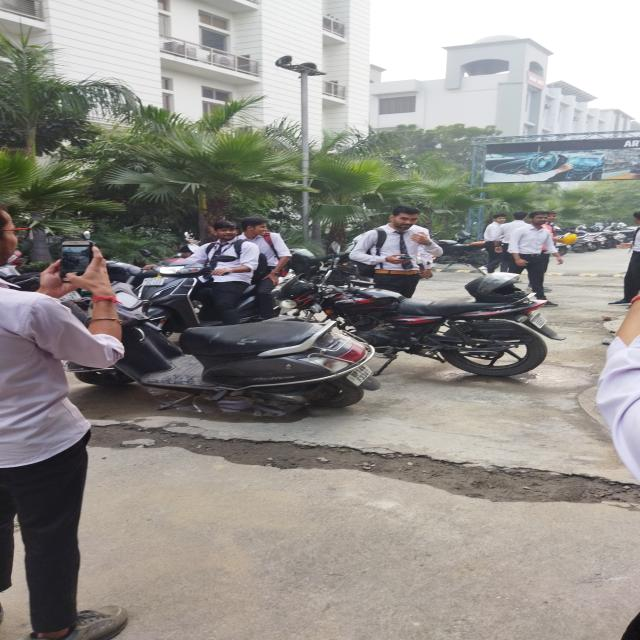unsafe: (358, 204, 438, 300), (190, 220, 252, 318), (518, 212, 555, 309)
